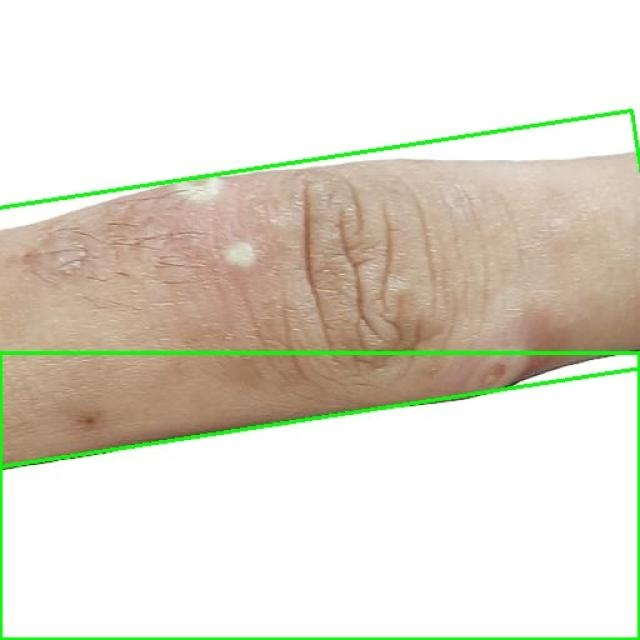Scabies: (0, 111, 640, 469), (0, 352, 639, 639)
